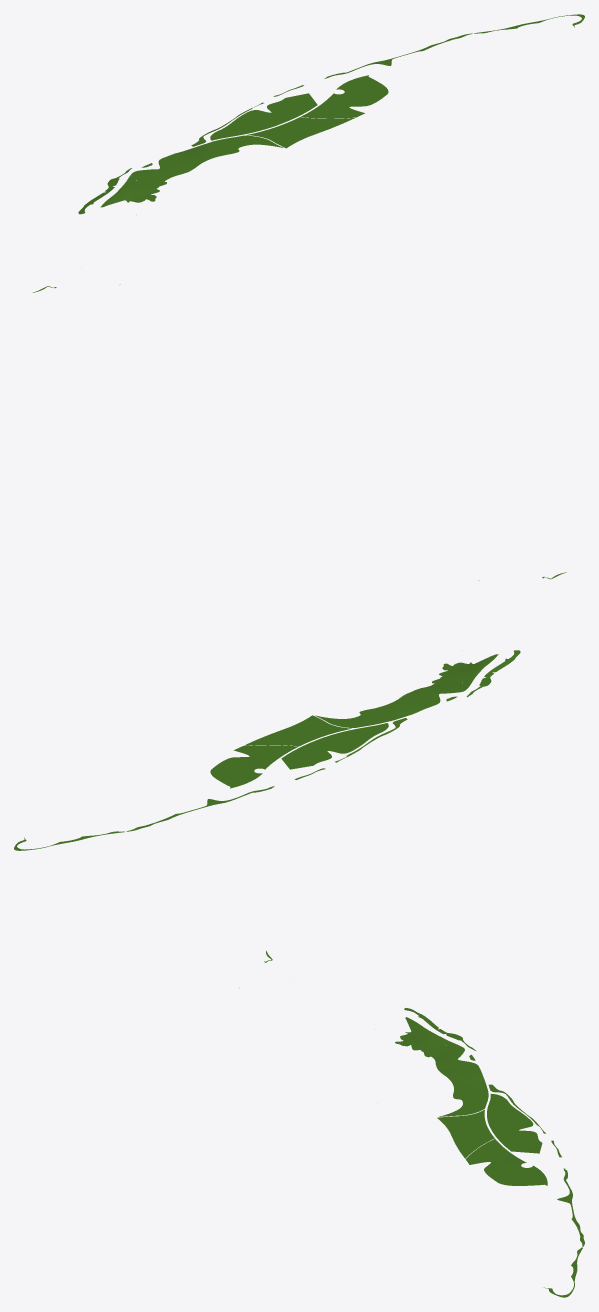
File: 17_Camp_Sites.glb
The picture shows the model from 3 angles, top to bottom: view 1: azimuth 30°, elevation 25°; view 2: azimuth 210°, elevation 25°; view 3: azimuth 270°, elevation 25°; orthographic projection.
Visible parts, largest first — view 1: 17_Camp_Sites; view 2: 17_Camp_Sites; view 3: 17_Camp_Sites.
Boxes of the visible parts, x1=… form: 17_Camp_Sites: x1=32, y1=14, x2=584, y2=292; 17_Camp_Sites: x1=14, y1=572, x2=566, y2=850; 17_Camp_Sites: x1=264, y1=950, x2=584, y2=1297.
Bounding box in the file's own units: 2644 × 5.52 × 1529.
